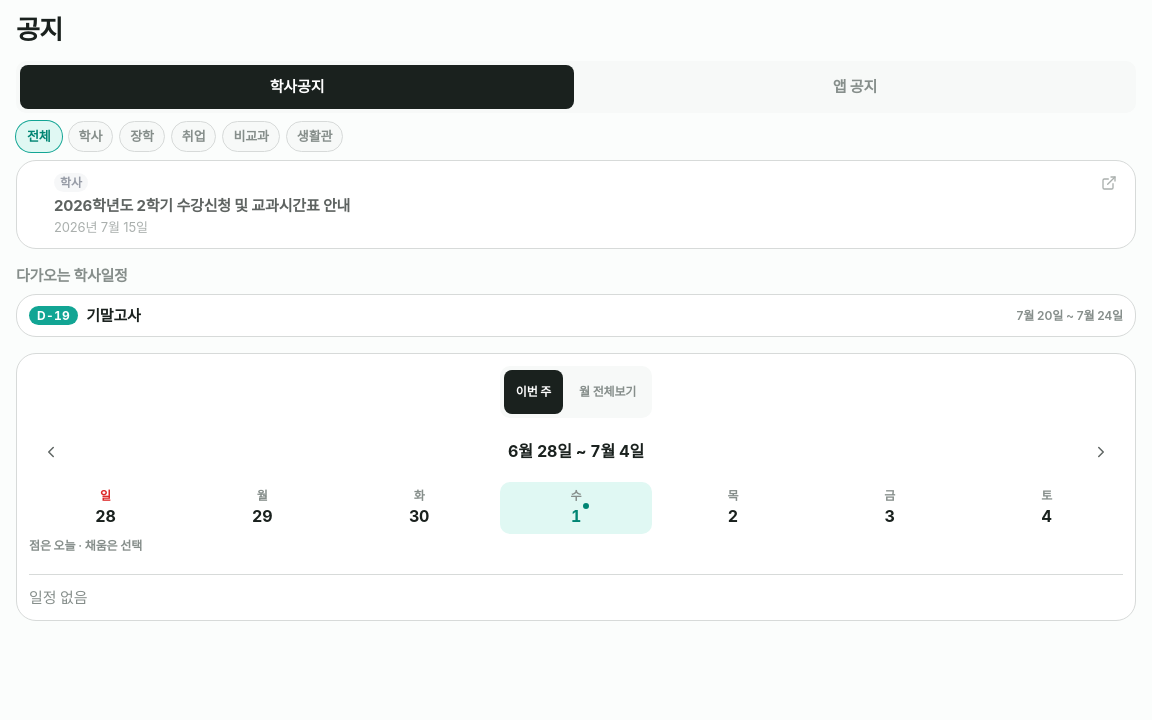
Scenario: NoticesTabPage — 세그먼트 탭 [학사공지] [앱 공지] › "앱 공지" 탭 클릭 시 학사공지 콘텐츠는 사라지고 앱 공지가 보인다
Click the tab "앱 공지". click: (855, 87)
box: [578,65,1132,109]
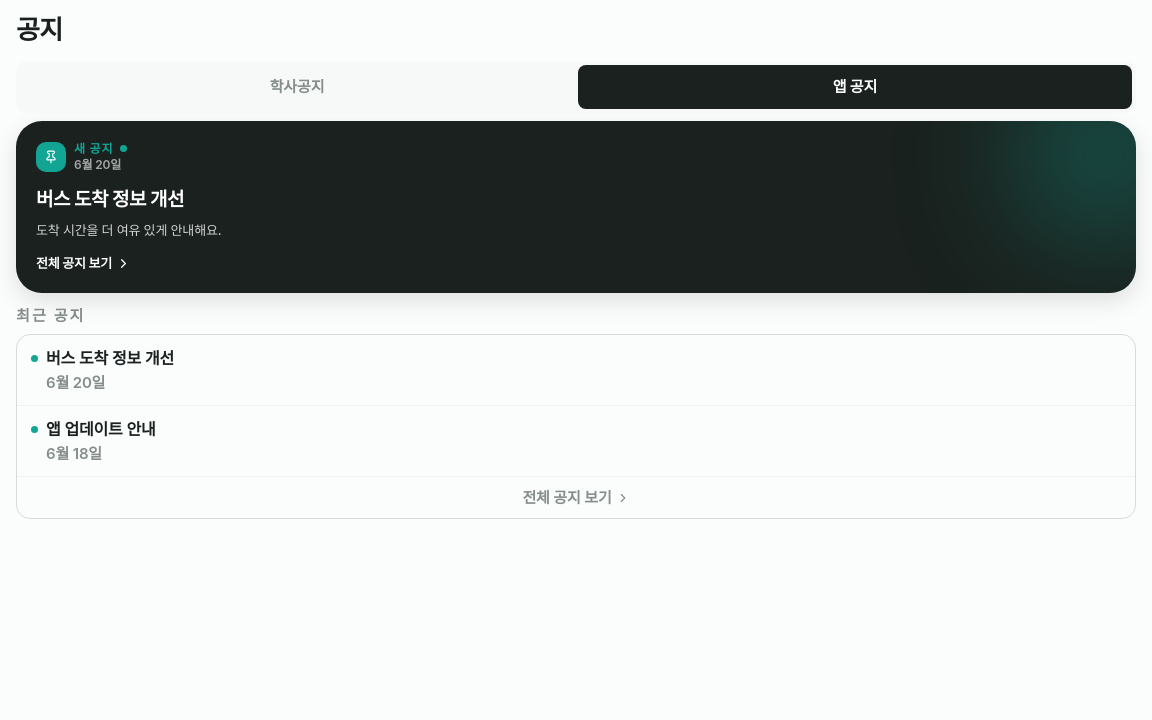
Result: the button "장학" is gone
Result: the 1st text "버스 도착 정보 개선" is shown at [36,188,184,211]
